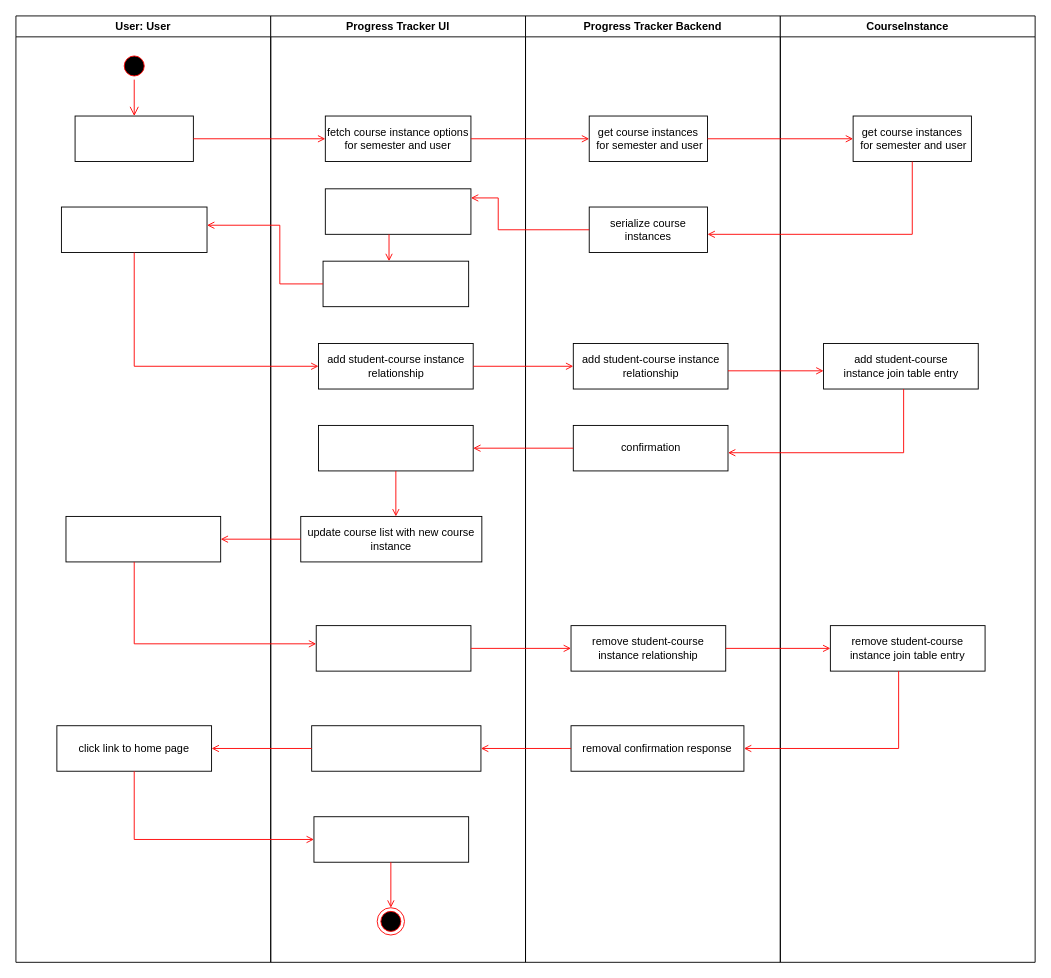
Image size: 1051x978. Some labels were removed from this diagram. Each missing label, with the centre of its shape:
click add course link: (133,138)
display new course form: (397,211)
hide new course form: (395,448)
redirect to home page: (391,839)
remove student-course instance relationship request: (393,648)
render course instance options: (395,283)
select course option: (134,229)
select remove button next to a course: (143,539)
update course list to remove course instance from list: (396,748)
